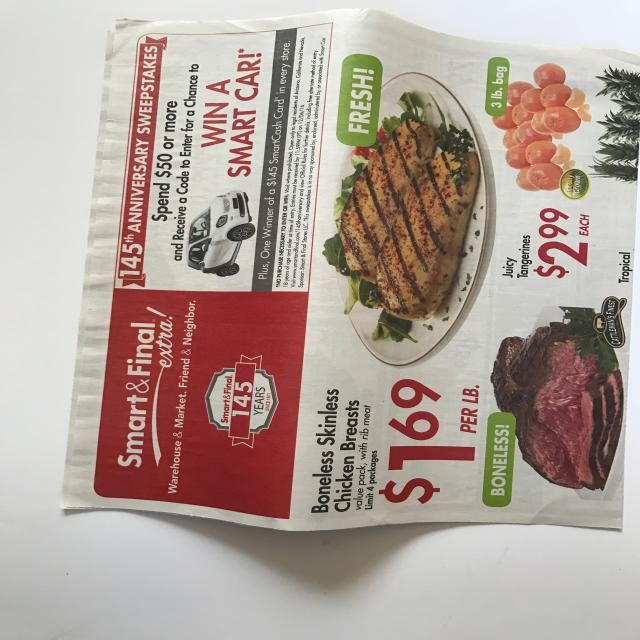paper: (59, 9, 637, 532)
